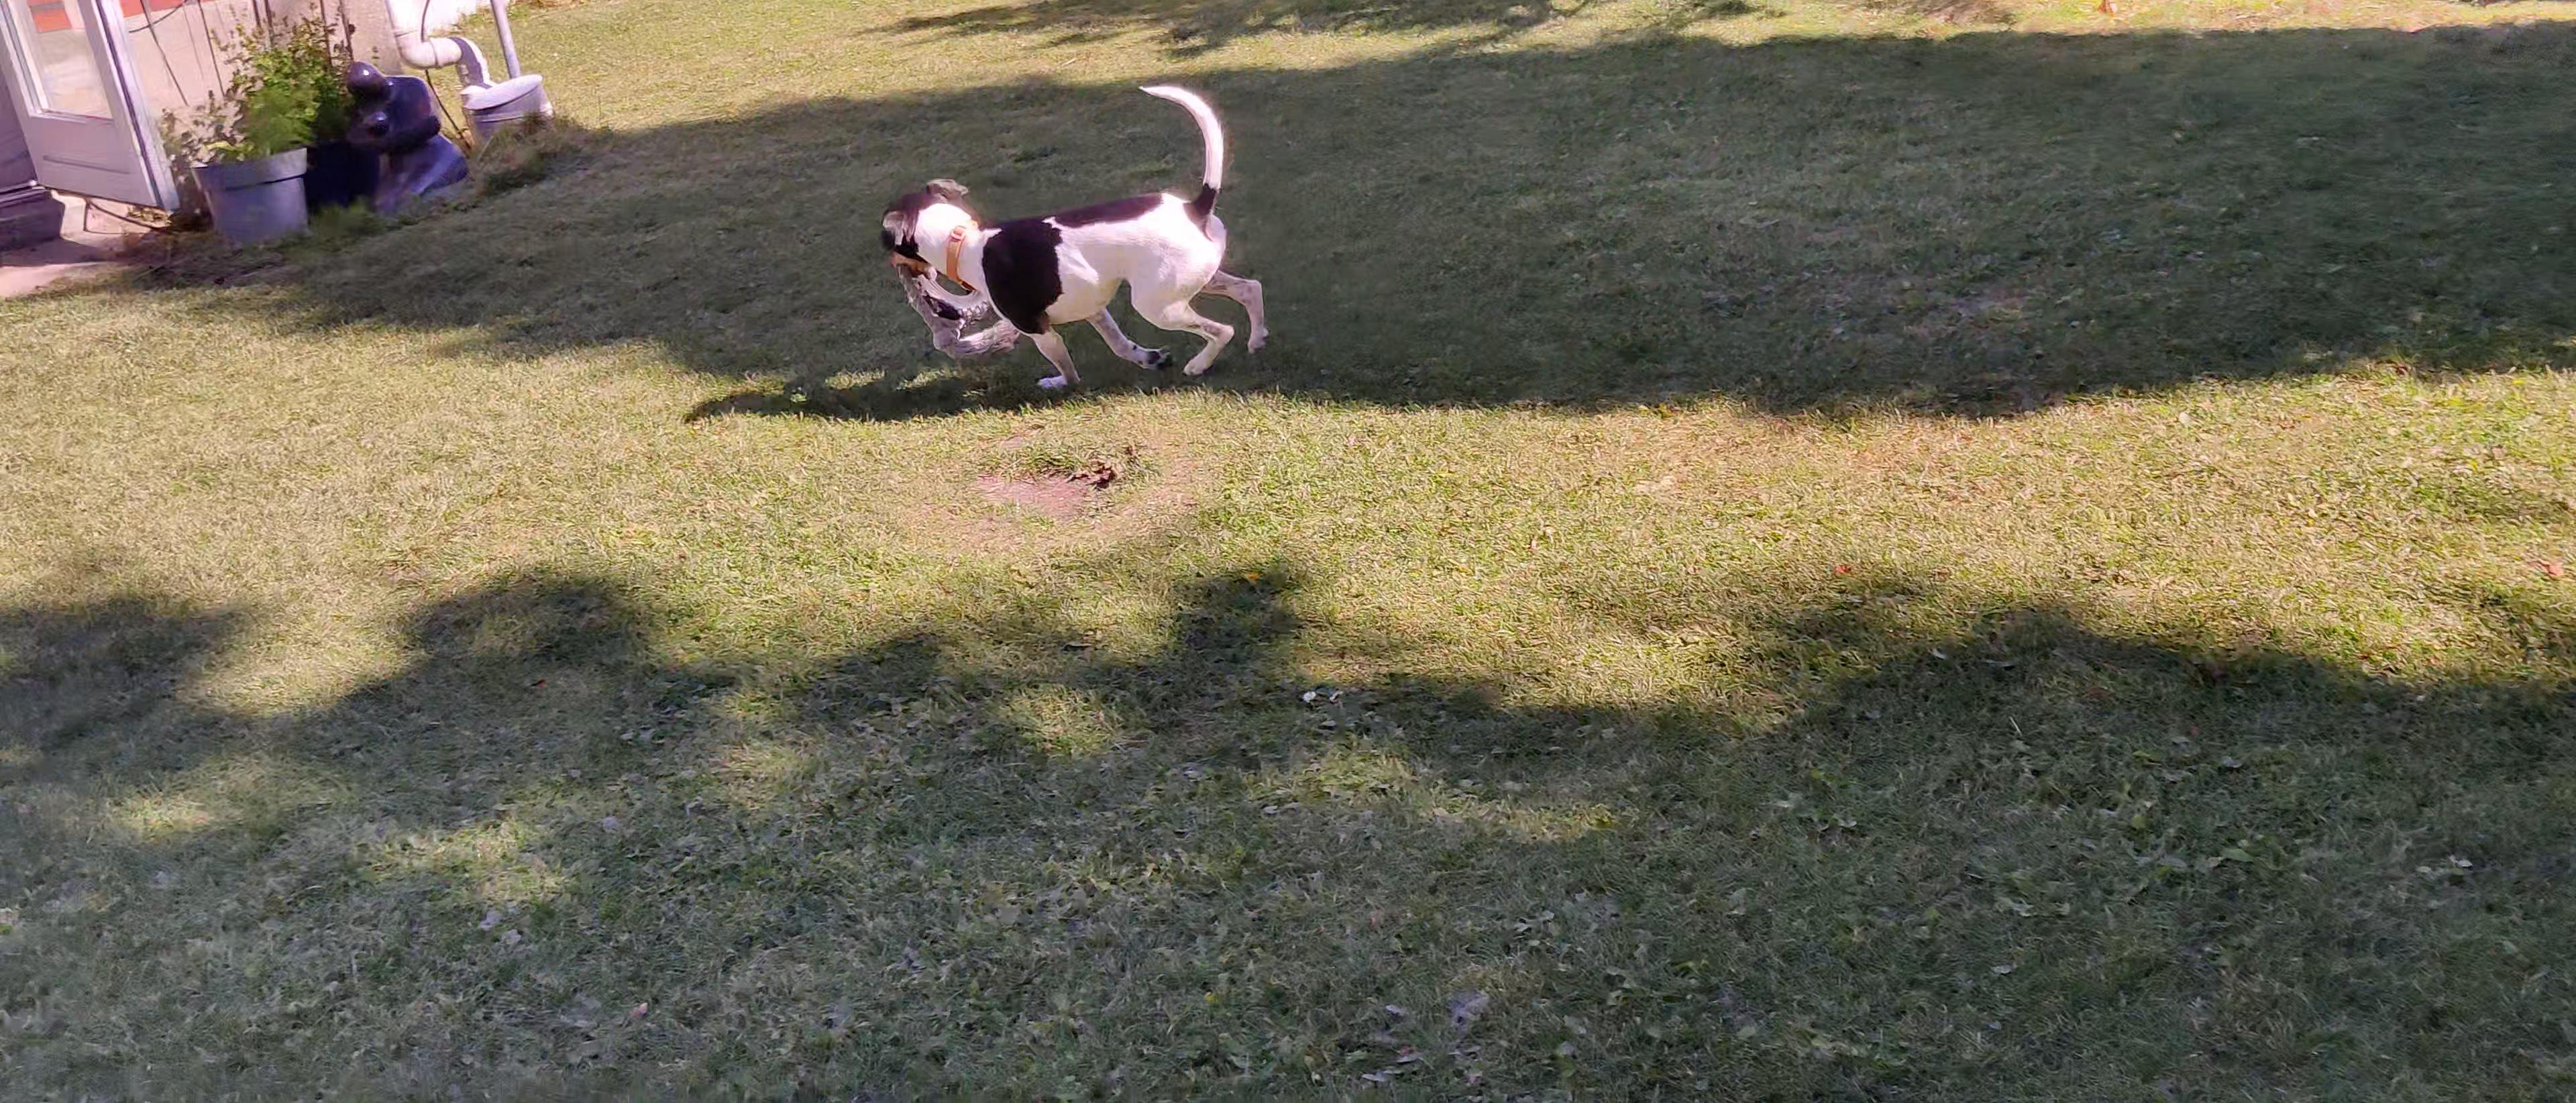Dog: (874, 81, 1273, 391)
